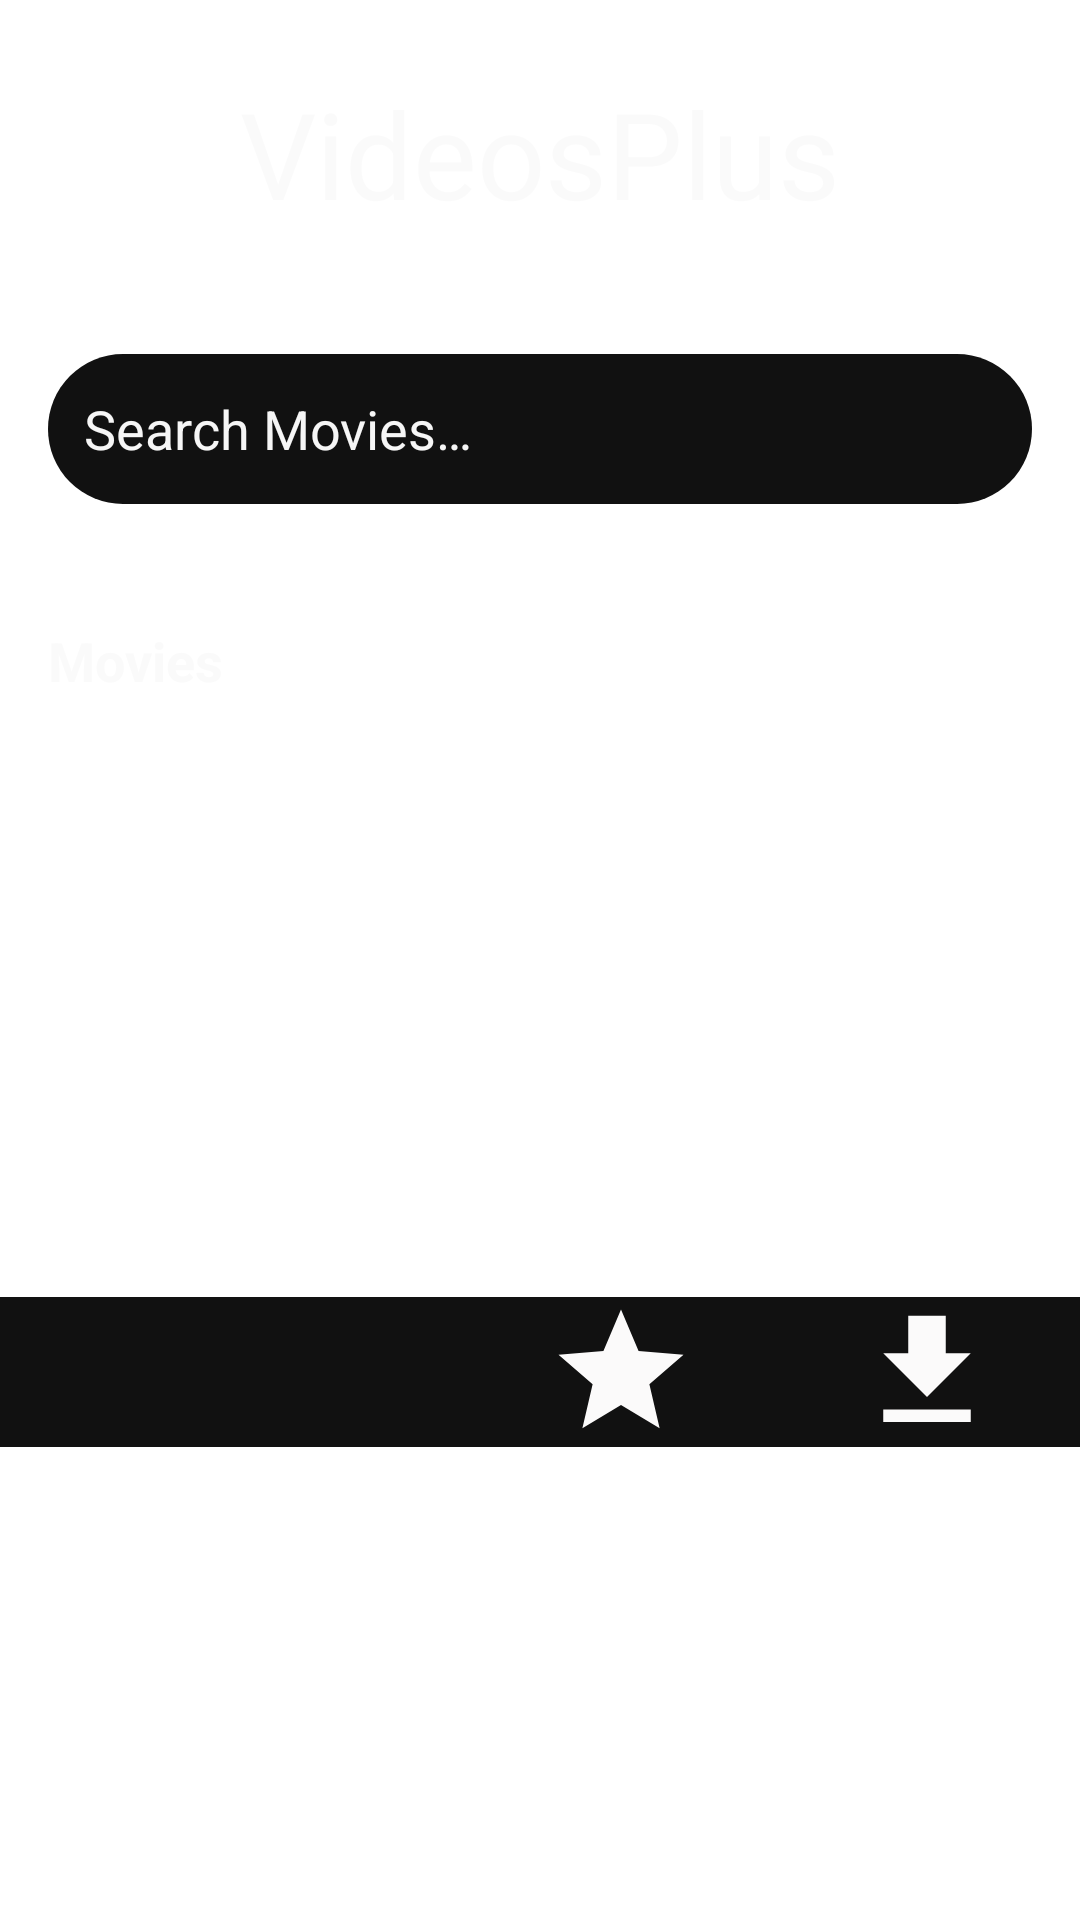

Icon click points for this 1080px x 1920px phone screenshot, format (x=x, y=y):
downloads: (x=927, y=1372)
